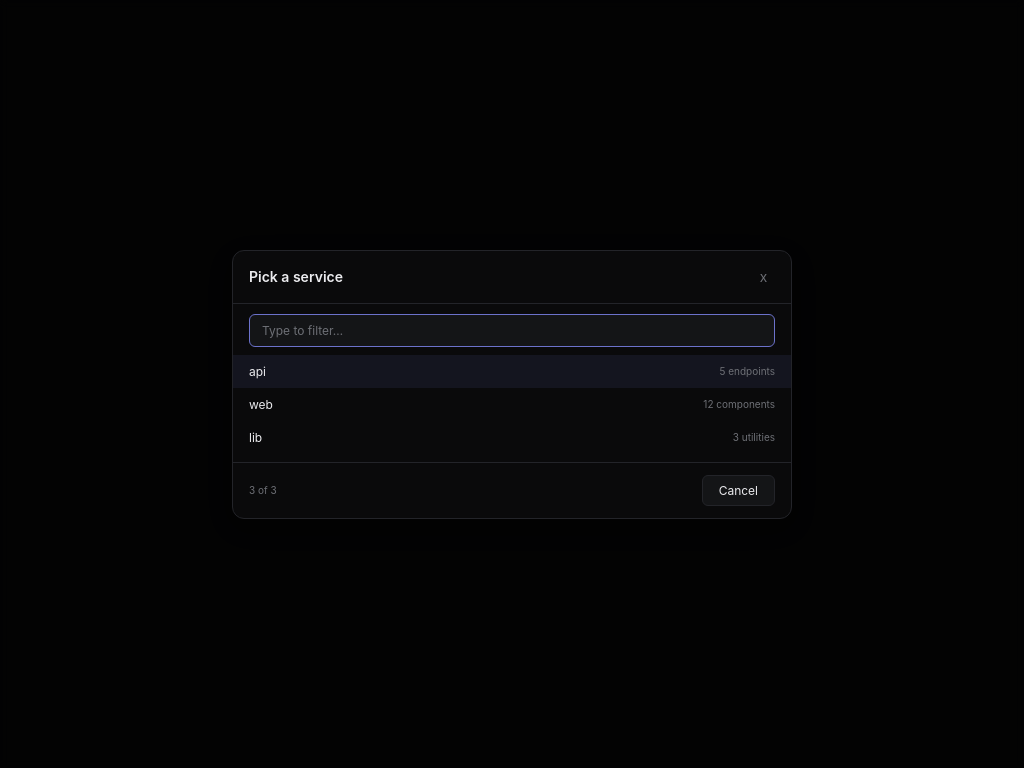
ScopePicker — UX-50a › filters items by label and subtitle on type
The width and height of the screenshot is (1024, 768).
Type "comp" into the field with test id "ca-scope-picker-search" at x=512, y=330, box [249, 314, 775, 346]
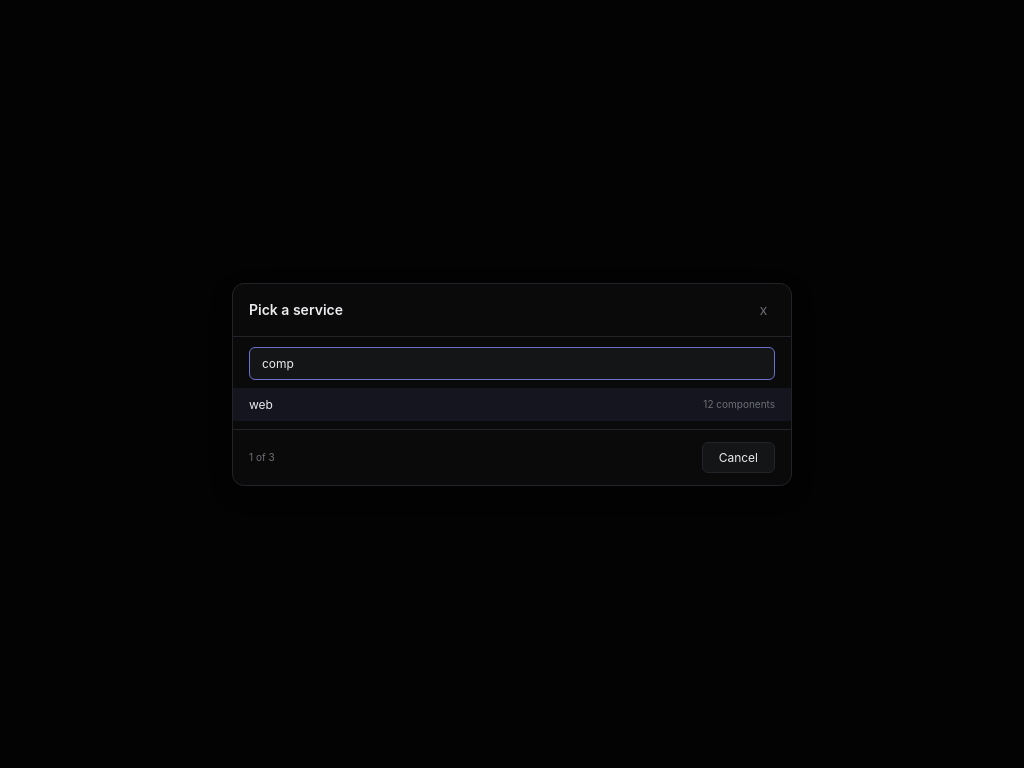
Check: the button with test id "ca-scope-picker-item" shows "web", box [233, 388, 791, 420]
Check: the number of buttons with test id "ca-scope-picker-item" is 1, box [233, 388, 791, 420]
